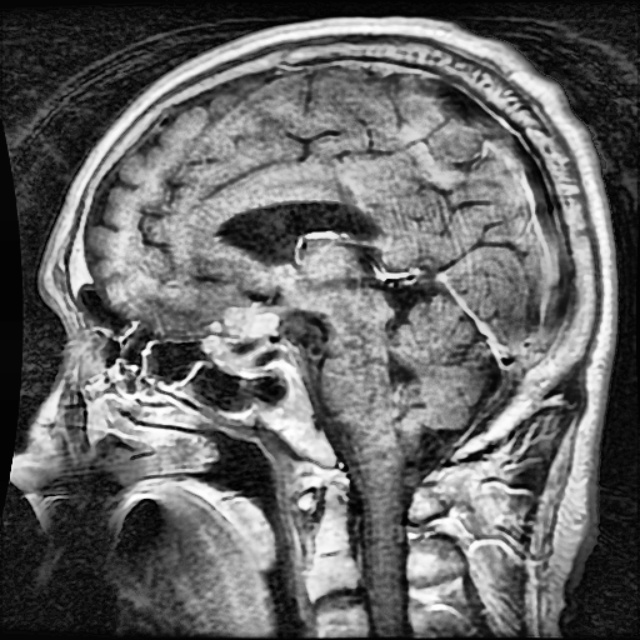Pituitary: (207, 309, 284, 373)
